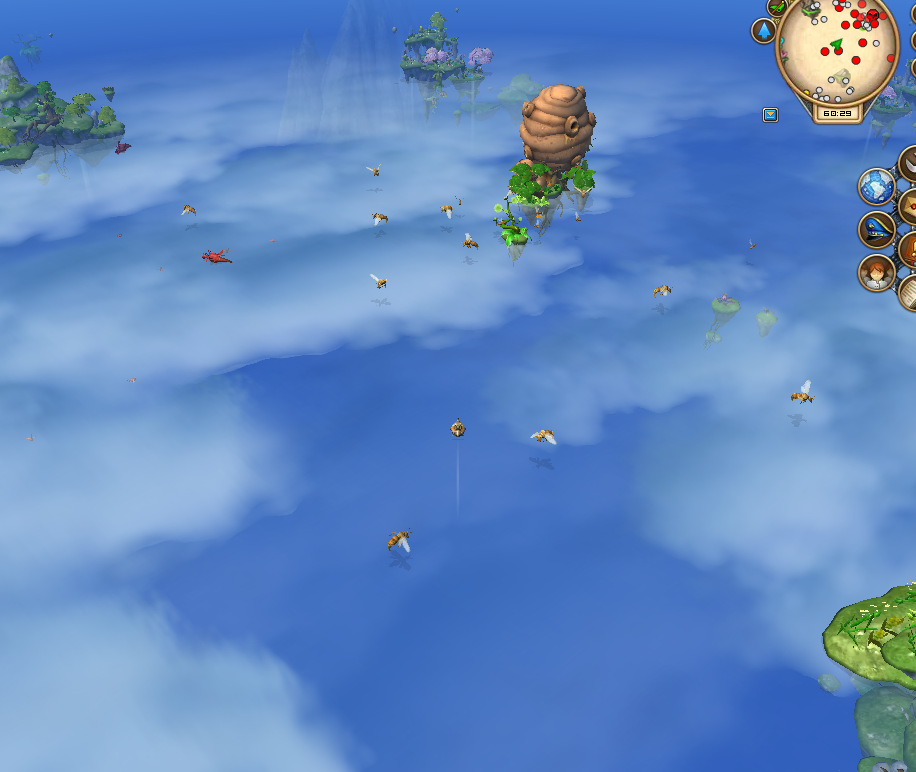dandelion-full: (492, 194, 533, 265), (13, 27, 48, 70)
